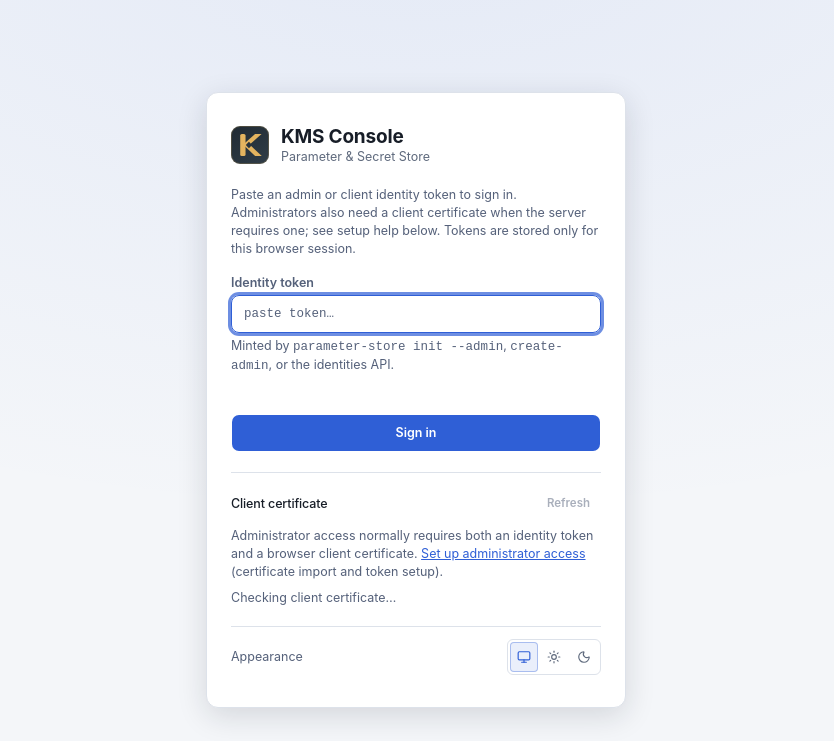
it: LoginPage › marks an unrecognised token inline on 401 and clears it on edit
Type "bad-token" into the password field labelled "Identity token" at (416, 314), box top-left (231, 295), bottom-right (601, 333)
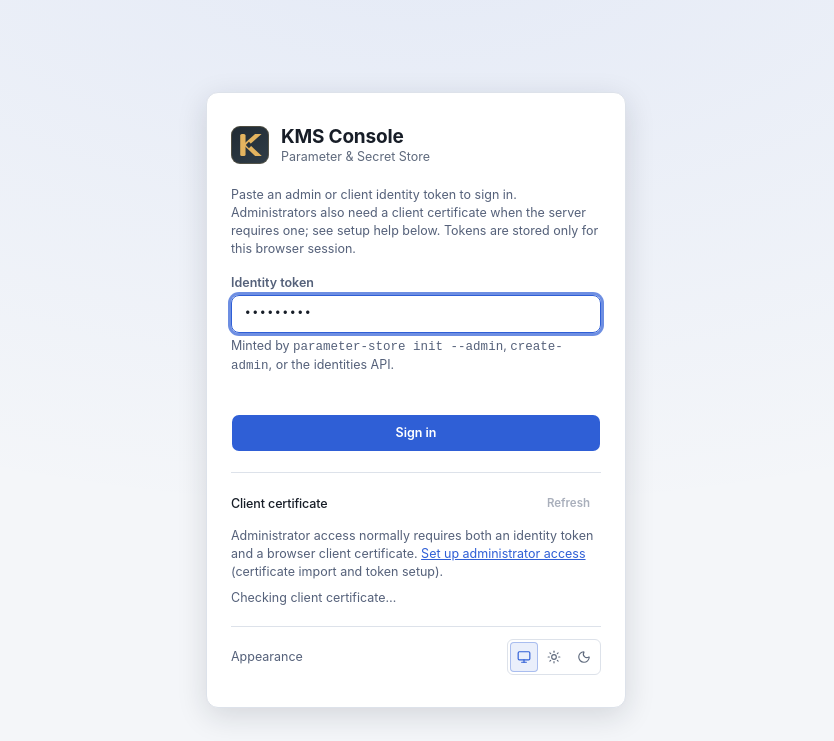
Click the button named "Sign in" below ", or the identities API." at (416, 433), box top-left (231, 414), bottom-right (601, 452)
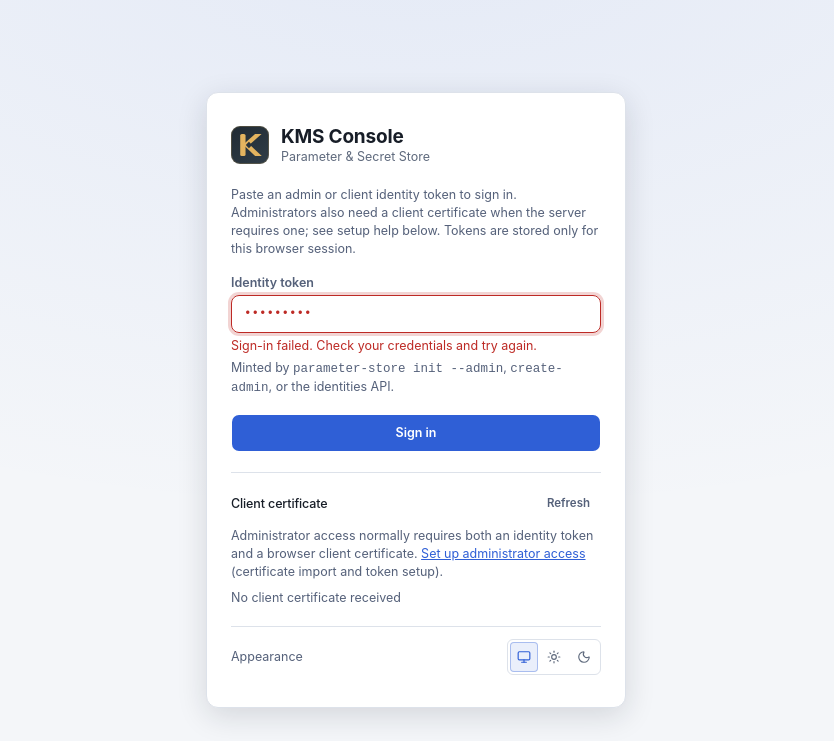
Now the message "Sign-in failed. Check your credentials and try again." is shown, box top-left (231, 338), bottom-right (537, 353)
Type "x" into the password field labelled "Identity token" at (416, 314), box top-left (231, 295), bottom-right (601, 333)
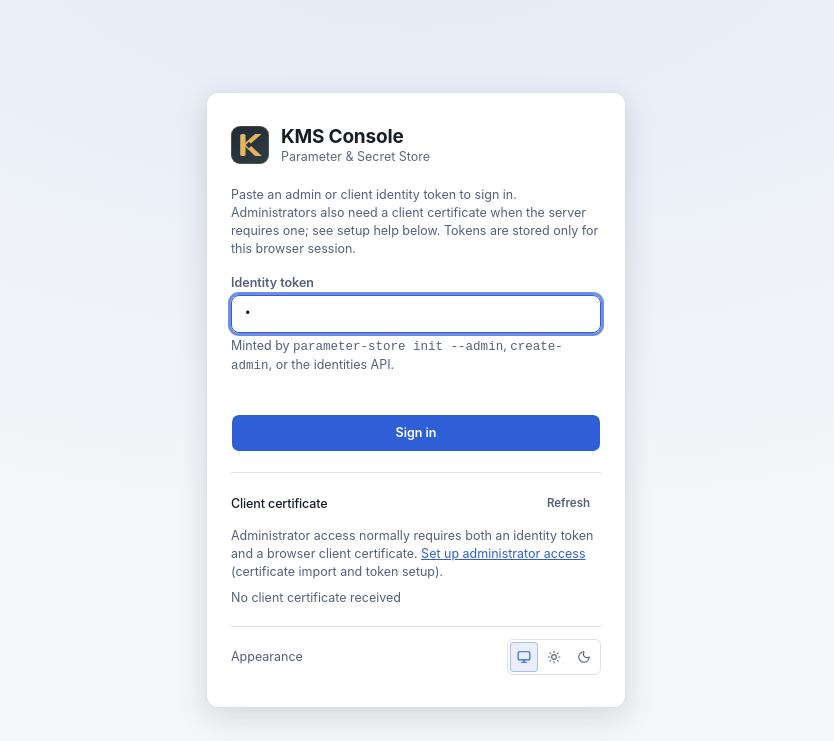
Now the message "Sign-in failed. Check your credentials and try again." is gone
